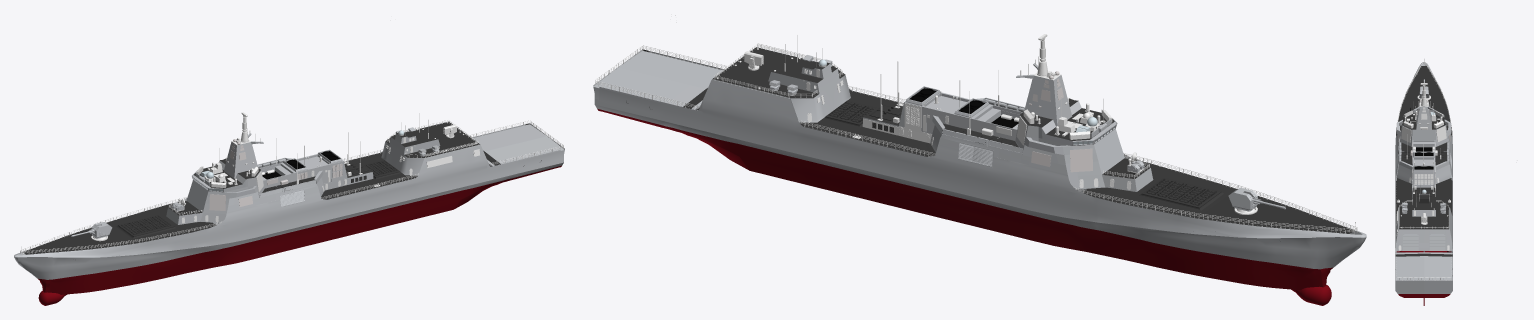
The model's file is cruise_055.glb.
The picture shows the model from 3 angles, left to right: view 1: azimuth 30°, elevation 25°; view 2: azimuth 150°, elevation 25°; view 3: azimuth 270°, elevation 25°; orthographic projection. The views are drawn at different scales.
Visible parts, largest first — view 1: Cube_235, Plane.003_28, Cube.009_230, Plane.001_29, Cube.066_173; view 2: Cube_235, Plane.003_28, Cube.009_230, Plane.001_29, Cube.082_157, Cylinder_131, Cube.049_190; view 3: Cube_235, Plane.003_28, Cube.009_230, Cube.048_191, Cube.047_192, Cylinder.020_116, Cylinder.010_126.
Boxes of the visible parts, <box> form: Cube_235: <box>14,121,564,294</box>; Plane.003_28: <box>166,149,372,224</box>; Cube.009_230: <box>224,133,263,178</box>; Plane.001_29: <box>116,215,176,238</box>; Cube.066_173: <box>323,161,373,190</box>; Cube_235: <box>593,47,1366,290</box>; Plane.003_28: <box>863,86,1153,191</box>; Cube.009_230: <box>1016,63,1072,126</box>; Plane.001_29: <box>1139,177,1223,210</box>; Cube.082_157: <box>862,103,932,143</box>; Cylinder_131: <box>1291,285,1331,305</box>; Cube.049_190: <box>1070,148,1092,172</box>; Cube_235: <box>1395,62,1452,305</box>; Plane.003_28: <box>1396,110,1451,196</box>; Cube.009_230: <box>1413,100,1434,129</box>; Cube.048_191: <box>1401,126,1411,142</box>; Cube.047_192: <box>1436,126,1446,141</box>; Cylinder.020_116: <box>1415,152,1432,169</box>; Cylinder.010_126: <box>1420,86,1427,106</box>.
Bounding box in the file's own units: 111 × 38.58 × 27.67.
